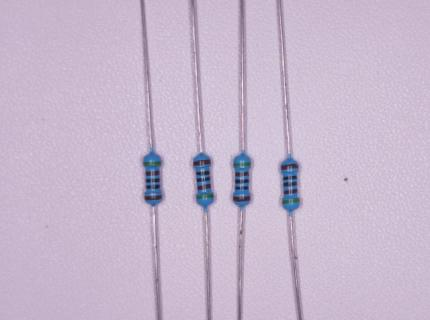Black band: (283, 175, 297, 180), (197, 177, 210, 182), (283, 183, 297, 187), (235, 179, 249, 183), (196, 171, 209, 175), (147, 185, 160, 189), (147, 179, 159, 183), (235, 187, 249, 189)
Brown band: (192, 159, 210, 166), (281, 164, 299, 170), (234, 196, 250, 202), (145, 195, 162, 200), (198, 184, 211, 190), (235, 172, 249, 177), (146, 171, 160, 175), (284, 190, 298, 194)
Green band: (197, 193, 213, 200), (282, 198, 299, 204), (144, 161, 161, 166), (233, 162, 250, 166)
